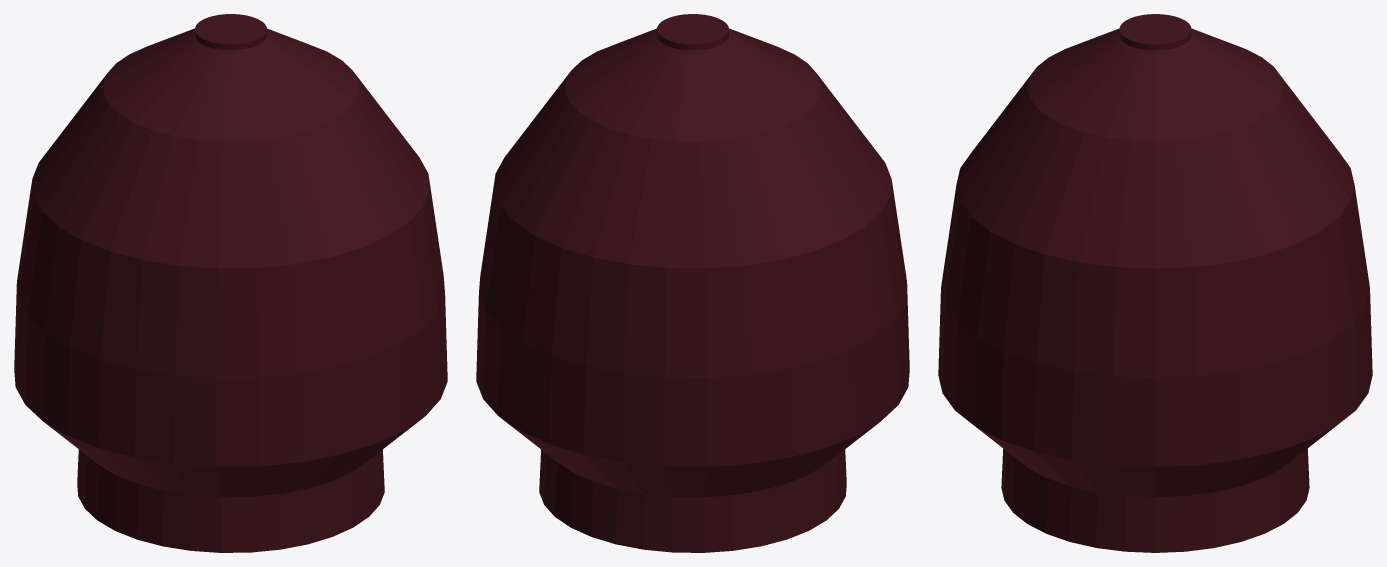
Rendered from Pot (Low Polly).gltf.
3 views of the same model, side by side, from view 1: azimuth 30°, elevation 25°; view 2: azimuth 150°, elevation 25°; view 3: azimuth 270°, elevation 25° (orthographic).
Parts seen in each view (by area): view 1: Cylinder; view 2: Cylinder; view 3: Cylinder.
Part boxes in pixels (bbox=[...]): Cylinder: bbox=[14, 14, 447, 552]; Cylinder: bbox=[476, 14, 909, 552]; Cylinder: bbox=[938, 14, 1372, 552].
Bounding box in the file's own units: 2.18 × 2.54 × 2.18.
1 material, 1 textured.
